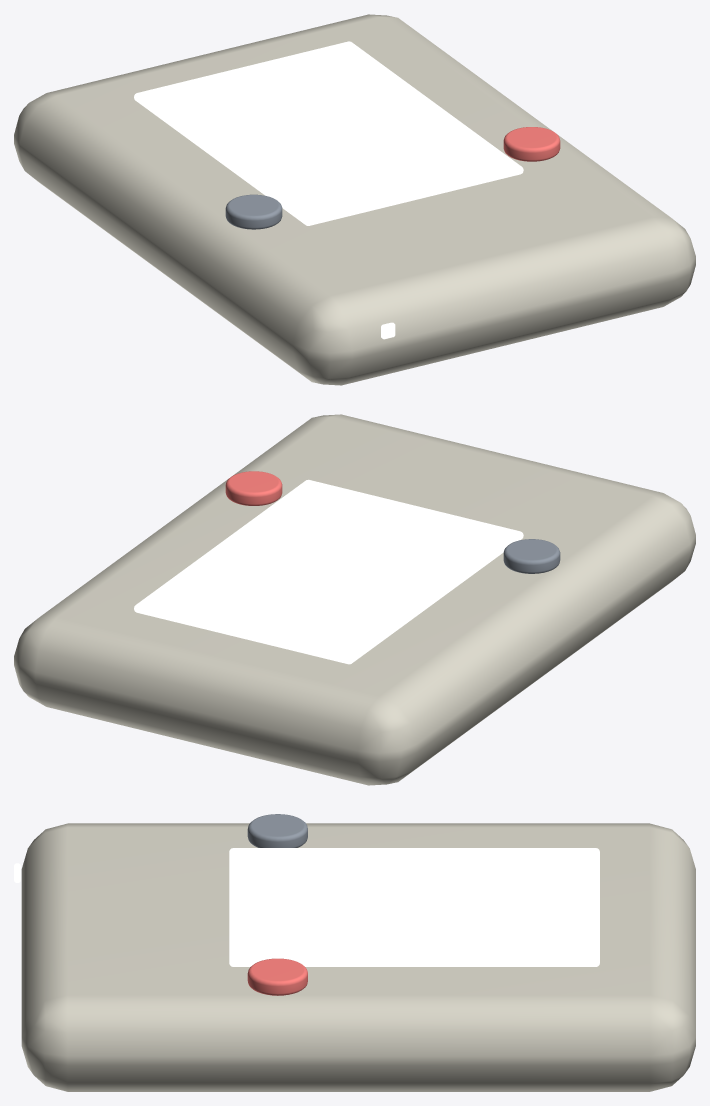
The model's file is consoleGameboy.glb.
3 views of the same model, one above another, from view 1: azimuth 30°, elevation 25°; view 2: azimuth 150°, elevation 25°; view 3: azimuth 270°, elevation 25° (orthographic). The views are drawn at different scales.
Parts seen in each view (by area): view 1: Handheld console, Game screen, Control button, Control button.001; view 2: Handheld console, Game screen, Control button.001, Control button; view 3: Handheld console, Game screen, Control button.001, Control button.
Boxes of the visible parts, x1,y1,x2,y2 form: Handheld console: (14,14,695,385); Game screen: (134,41,523,225); Control button: (225,194,282,229); Control button.001: (503,127,560,161); Handheld console: (14,414,695,785); Game screen: (134,479,523,664); Control button.001: (225,471,282,505); Control button: (503,539,560,573); Handheld console: (21,823,695,1091); Game screen: (229,848,599,966); Control button.001: (247,958,307,995); Control button: (247,814,307,847).
Size of the model in its own units: 1.05 by 0.2525 by 1.47.
